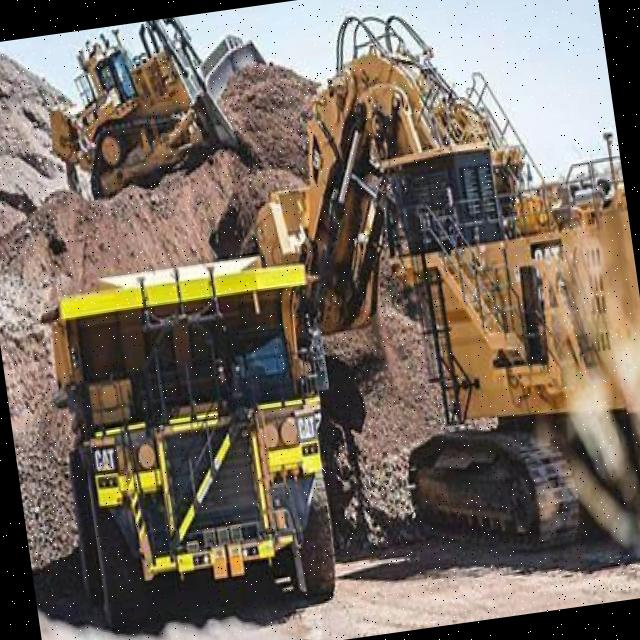Bulldozer: (22, 2, 307, 242)
Dump Truck: (38, 250, 381, 640)
Excavator: (219, 11, 640, 588)
